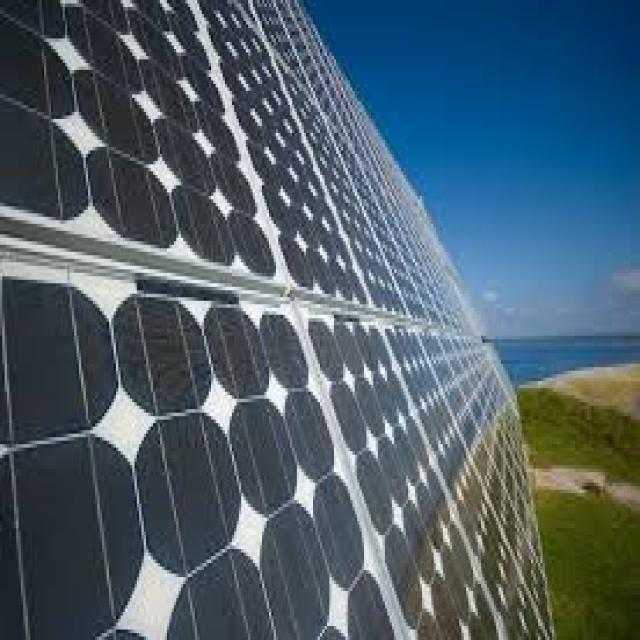clean-solar-panel: (1, 2, 552, 637)
